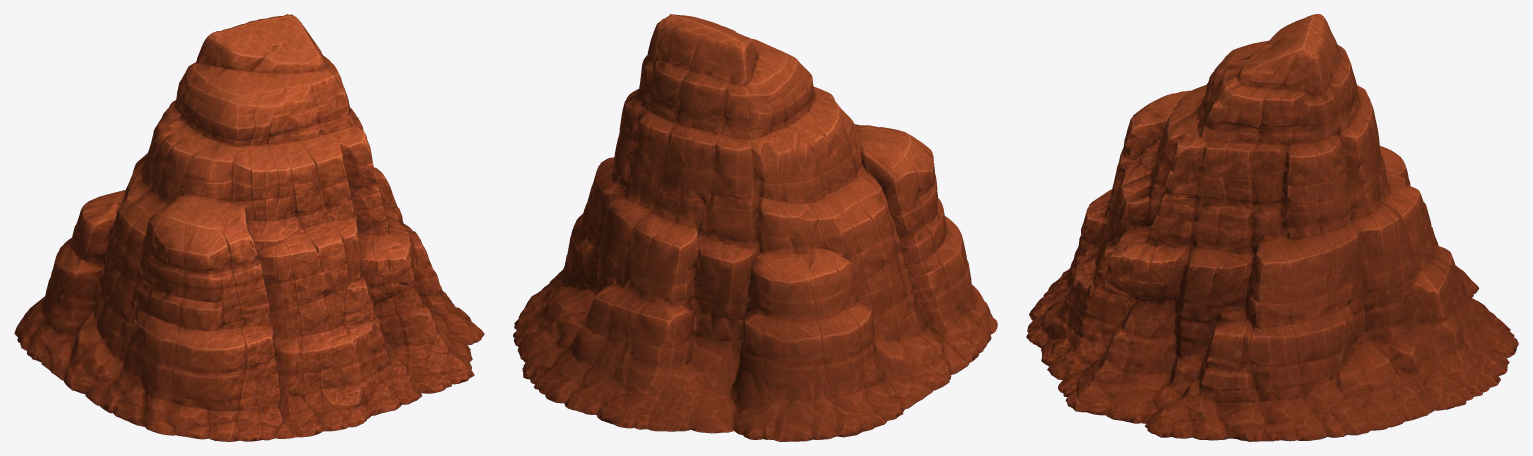
File: desert_rock_lite.glb
The picture shows the model from 3 angles, left to right: view 1: azimuth 30°, elevation 25°; view 2: azimuth 150°, elevation 25°; view 3: azimuth 270°, elevation 25°; orthographic projection. The views are drawn at different scales.
Parts seen in each view (by area): view 1: mesh_node; view 2: mesh_node; view 3: mesh_node.
Part boxes in pixels (x1=…): mesh_node: x1=14, y1=14, x2=484, y2=441; mesh_node: x1=513, y1=14, x2=997, y2=441; mesh_node: x1=1026, y1=14, x2=1518, y2=441.
Bounding box in the file's own units: 1.81 × 1.39 × 1.9.
Materials: 1 (1 with a texture image).
